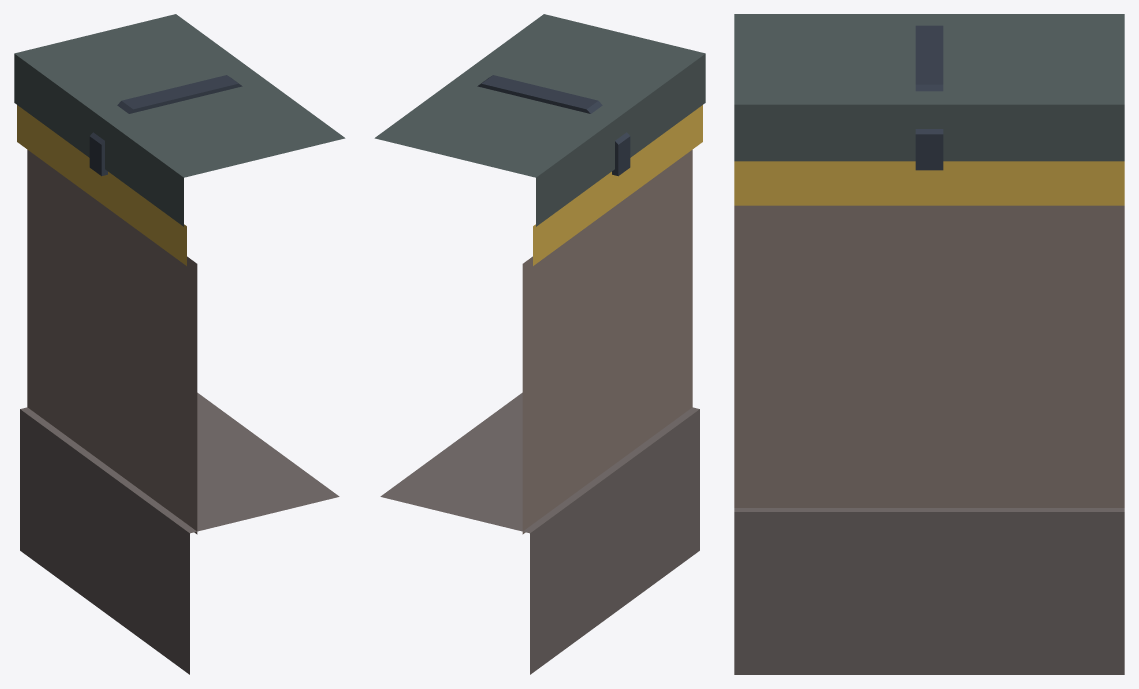
Rendered from stone_wall_straight_low.glb.
3 views of the same model, side by side, from view 1: azimuth 30°, elevation 25°; view 2: azimuth 150°, elevation 25°; view 3: azimuth 270°, elevation 25° (orthographic). The views are drawn at different scales.
Visible parts, largest first — view 1: body; view 2: body; view 3: body.
Part boxes in pixels (x1,y1,x2,y2): body: [14, 14, 345, 674]; body: [374, 14, 705, 674]; body: [734, 14, 1124, 674].
Size of the model in its own units: 0.574 by 1.63 by 1.
